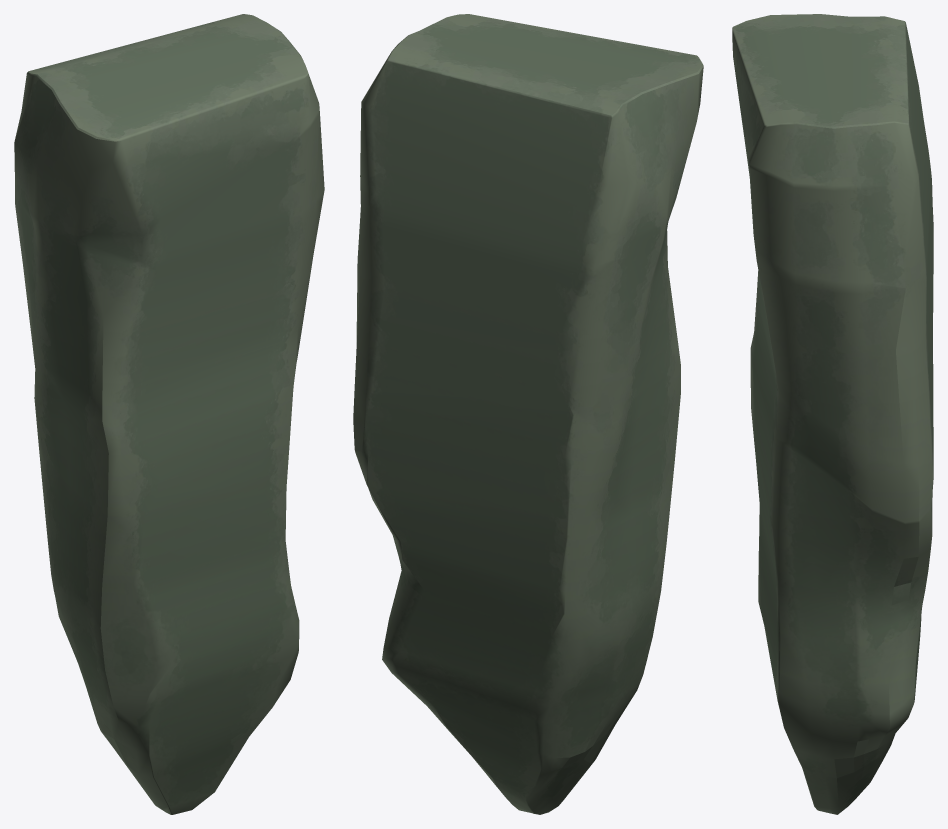
Rendered from ROCHE_LOW_Poly_01.fbx.
3 renders of one model, left to right at view 1: azimuth 30°, elevation 25°; view 2: azimuth 150°, elevation 25°; view 3: azimuth 270°, elevation 25°, orthographic. The views are drawn at different scales.
Parts seen in each view (by area): view 1: ROCHE_LOW_Poly_01; view 2: ROCHE_LOW_Poly_01; view 3: ROCHE_LOW_Poly_01.
Boxes of the visible parts, box(x1,y1,x2,y2) form: ROCHE_LOW_Poly_01: box(14, 14, 324, 814); ROCHE_LOW_Poly_01: box(353, 14, 703, 814); ROCHE_LOW_Poly_01: box(732, 14, 933, 814).
Bounding box in the file's own units: 69.28 × 174 × 42.98.
1 material, 1 textured.
